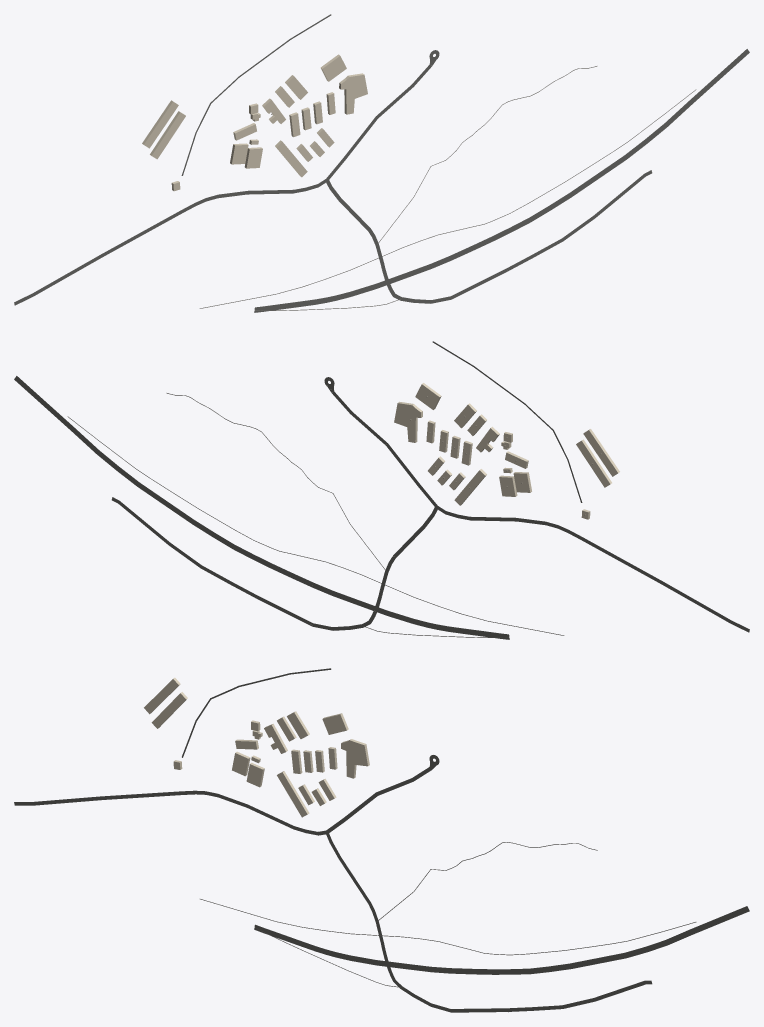
The model's file is historic-palestine-08_24_3495_3182.glb.
3 renders of one model, top to bottom at view 1: azimuth 30°, elevation 25°; view 2: azimuth 150°, elevation 25°; view 3: azimuth 330°, elevation 25°, orthographic.
Visible parts, largest first — view 1: Road 3, Road נחשון-בקוע, Road 4246.001, Building_.021, Road 4246, Building_.002, Building_.001; view 2: Road 3, Road נחשון-בקוע, Road 4246.001, Building_.021, Road 4246, Building_.002, Building_.001; view 3: Road 3, Road נחשון-בקוע, Road 4246.001, Building_.021.
Boxes of the visible parts, box(x1,y1,x2,y2) form: Road 3: box(254, 49, 749, 312); Road נחשון-בקוע: box(14, 179, 326, 305); Road 4246.001: box(389, 170, 652, 303); Building_.021: box(339, 73, 367, 114); Road 4246: box(326, 64, 431, 179); Building_.002: box(142, 100, 178, 148); Building_.001: box(150, 111, 185, 159); Road 3: box(14, 376, 509, 639); Road נחשון-בקוע: box(437, 506, 749, 632); Road 4246.001: box(111, 497, 374, 630); Building_.021: box(394, 401, 422, 442); Road 4246: box(332, 391, 437, 506); Building_.002: box(583, 429, 619, 476); Building_.001: box(576, 439, 611, 487); Road 3: box(254, 906, 749, 974); Road נחשון-בקוע: box(14, 790, 327, 835); Road 4246.001: box(389, 973, 652, 1012); Building_.021: box(341, 739, 369, 778).
Bounding box in the file's own units: 1700 × 695 × 8.7.
